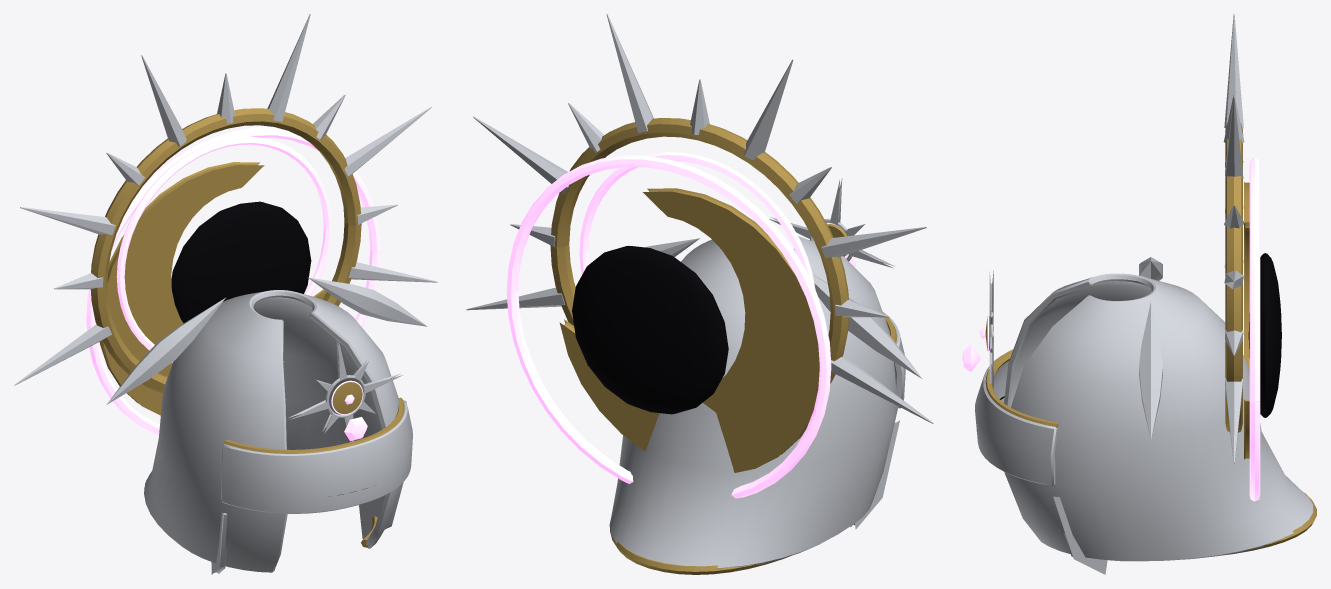
Rendered from esc_final_twilight_helm.glb.
3 renders of one model, left to right at view 1: azimuth 30°, elevation 25°; view 2: azimuth 150°, elevation 25°; view 3: azimuth 270°, elevation 25°, orthographic. The views are drawn at different scales.
Visible parts, largest first — view 1: esc_final_twilight_helm; view 2: esc_final_twilight_helm; view 3: esc_final_twilight_helm.
Part boxes in pixels (<box>): esc_final_twilight_helm: <box>14,14,437,574</box>; esc_final_twilight_helm: <box>466,14,933,574</box>; esc_final_twilight_helm: <box>962,14,1316,574</box>.
Bounding box in the file's own units: 0.7147 × 0.7661 × 0.512.
